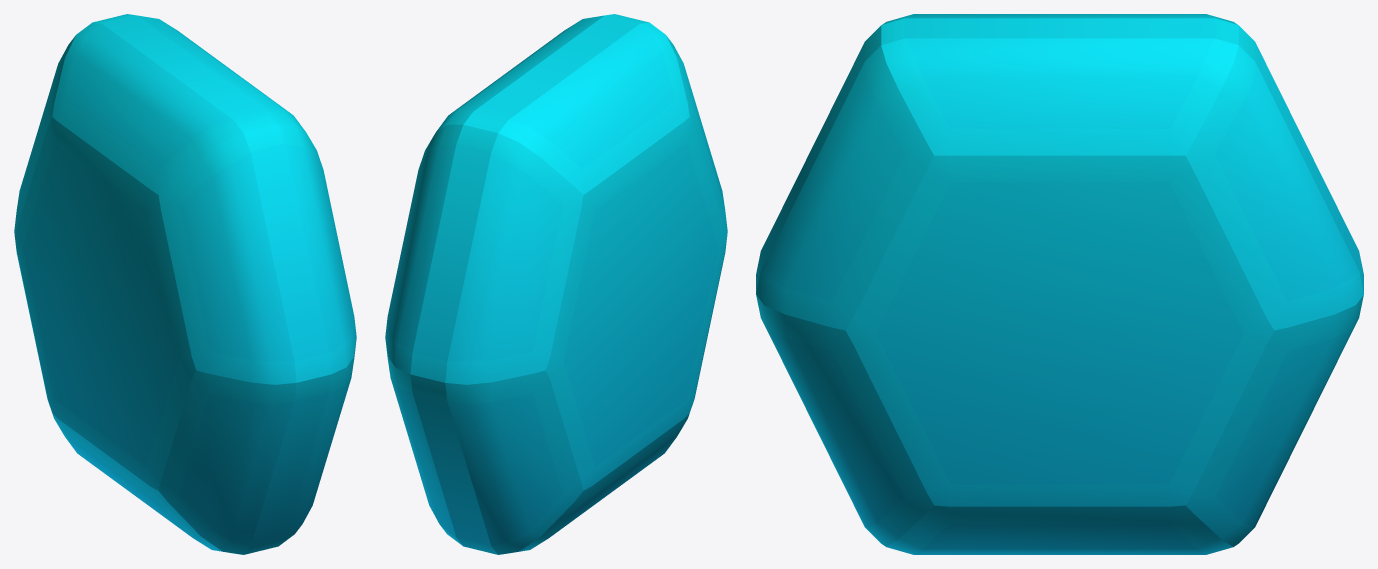
The model's file is Gem_V2_00.fbx.
3 renders of one model, left to right at view 1: azimuth 30°, elevation 25°; view 2: azimuth 150°, elevation 25°; view 3: azimuth 270°, elevation 25°, orthographic. The views are drawn at different scales.
Parts seen in each view (by area): view 1: Gem_V2_00; view 2: Gem_V2_00; view 3: Gem_V2_00.
Boxes of the visible parts, <box> form: Gem_V2_00: <box>14,14,356,554</box>; Gem_V2_00: <box>385,14,727,554</box>; Gem_V2_00: <box>756,14,1363,554</box>.
Bounding box in the file's own units: 15.91 × 38.91 × 41.87.
